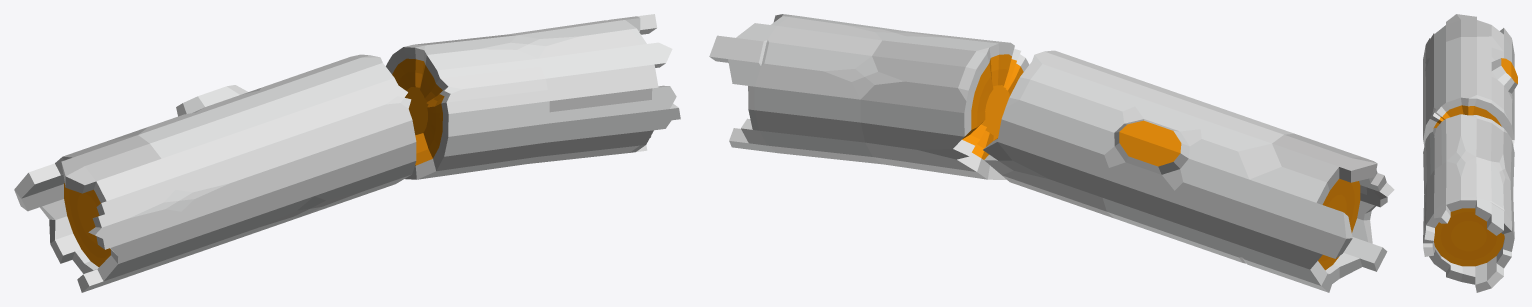
File: Broken log_16.fbx
The picture shows the model from 3 angles, left to right: view 1: azimuth 30°, elevation 25°; view 2: azimuth 150°, elevation 25°; view 3: azimuth 270°, elevation 25°; orthographic projection. The views are drawn at different scales.
Visible parts, largest first — view 1: Circle.208, Circle.205; view 2: Circle.208, Circle.205; view 3: Circle.205, Circle.208.
Boxes of the visible parts, x1,y1,x2,y2 form: Circle.208: [14, 54, 416, 292]; Circle.205: [386, 14, 680, 179]; Circle.208: [983, 50, 1394, 292]; Circle.205: [709, 14, 1029, 179]; Circle.205: [1423, 114, 1514, 292]; Circle.208: [1423, 14, 1517, 146].
Bounding box in the file's own units: 111 × 25.83 × 21.48.
